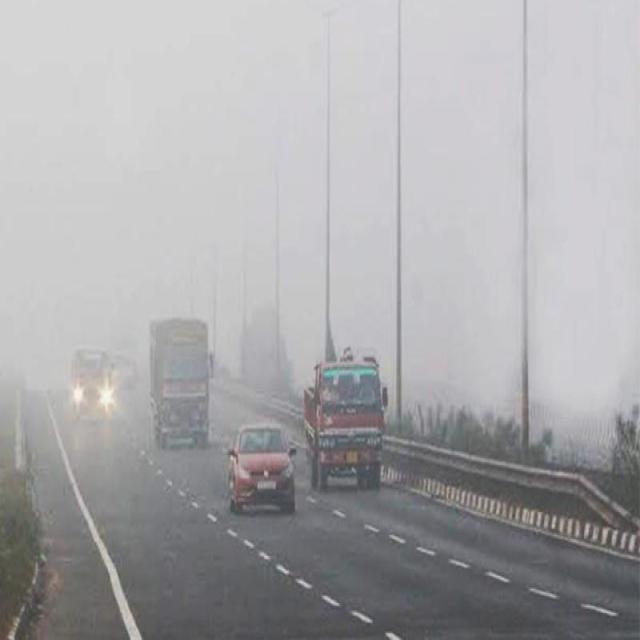Car: (226, 421, 300, 516)
Truck: (302, 349, 391, 492), (148, 313, 215, 452)
Van: (68, 344, 118, 422)
